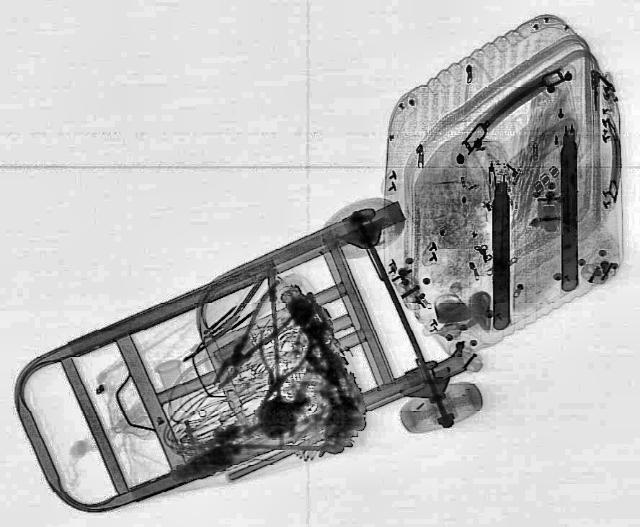Pliers: (197, 276, 311, 396), (236, 324, 318, 422)
